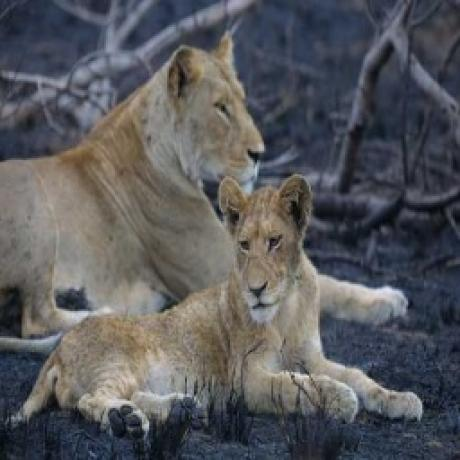Lion: (0, 27, 431, 349), (0, 175, 423, 426)
